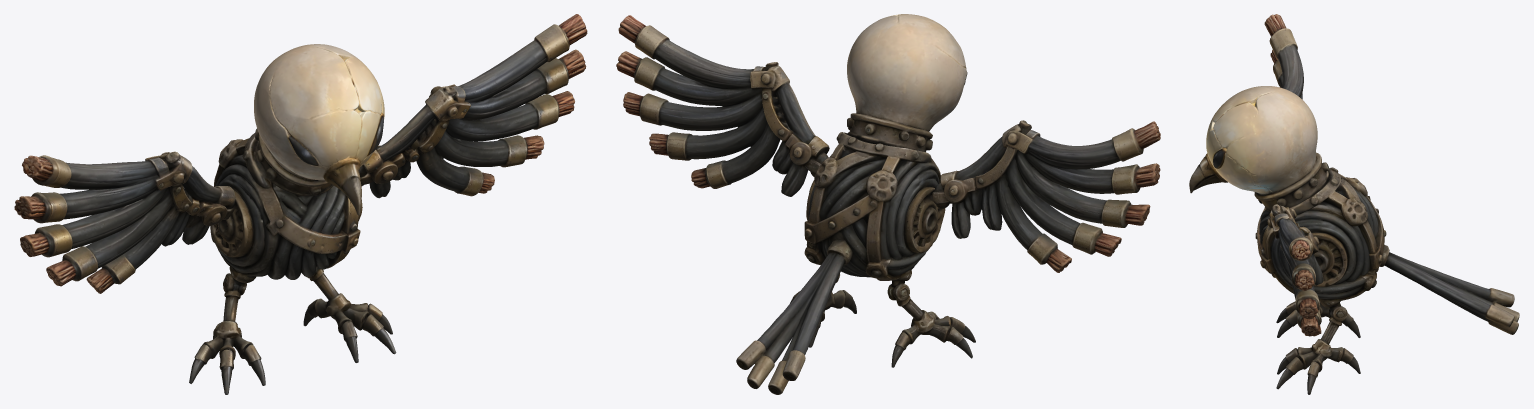
Rendered from crow_tripo_h31_raw.glb.
3 renders of one model, left to right at view 1: azimuth 30°, elevation 25°; view 2: azimuth 150°, elevation 25°; view 3: azimuth 270°, elevation 25°, orthographic. The views are drawn at different scales.
Parts seen in each view (by area): view 1: tripo_node_bb104e95-e1a4-47a0-9e19-3c4fba72c7f2; view 2: tripo_node_bb104e95-e1a4-47a0-9e19-3c4fba72c7f2; view 3: tripo_node_bb104e95-e1a4-47a0-9e19-3c4fba72c7f2.
Part boxes in pixels (box(x1,y1,x2,y2)): tripo_node_bb104e95-e1a4-47a0-9e19-3c4fba72c7f2: box(14, 14, 587, 394); tripo_node_bb104e95-e1a4-47a0-9e19-3c4fba72c7f2: box(616, 14, 1160, 394); tripo_node_bb104e95-e1a4-47a0-9e19-3c4fba72c7f2: box(1189, 14, 1519, 394).
Size of the model in its own units: 1 by 0.5435 by 0.6133.
Materials: 1 (1 with a texture image).
